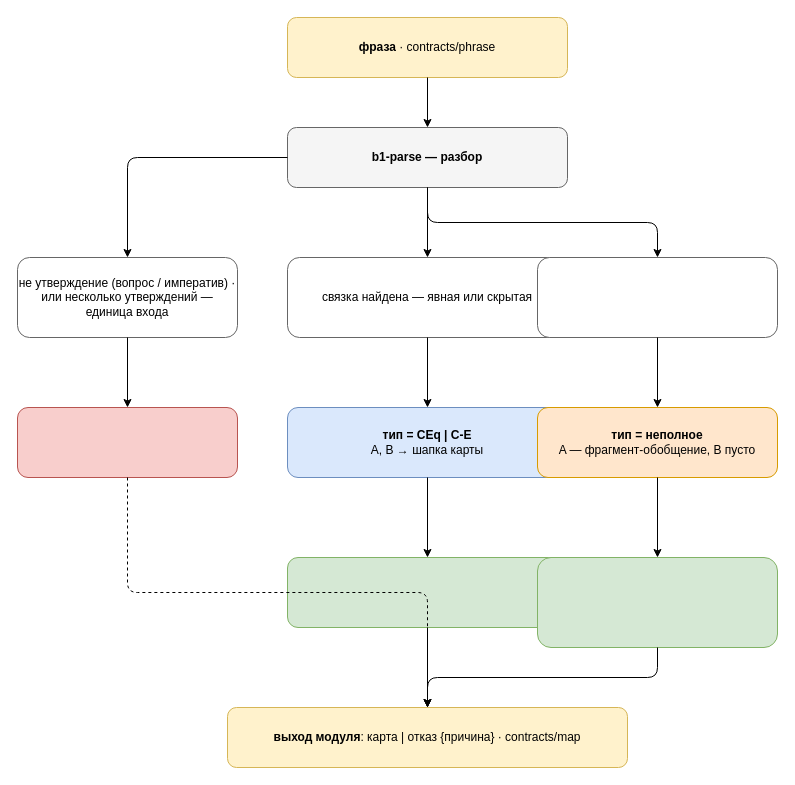
Some shapes in this 795 by 785 pixel diagram are drawn without their labels. The shapes that lost their labels are listed below. From the top down, each one's box as (x1, y1, x2, y2) in pixels, then its label:
(536, 256, 778, 338): связки нет: обобщение без CEq / C-E (норма, с. 125)
(16, 406, 238, 478): ОТКАЗ {причина} не состояние карты
(286, 556, 568, 628): b2-detect детекция: отметки мишеней I–V
(536, 556, 778, 648): b3-explicate 4 вопроса-причины, раскрытие неполных; тип уточняется до CEq | C-E
